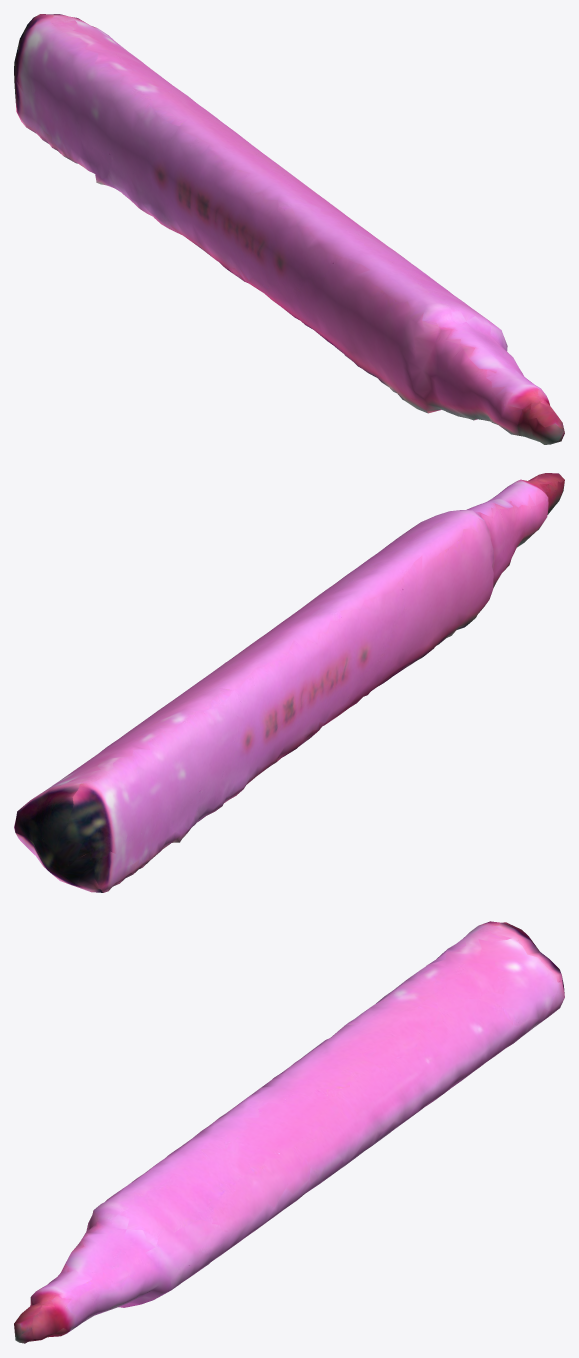
Rendered from scan_align.obj.
The picture shows the model from 3 angles, top to bottom: view 1: azimuth 30°, elevation 25°; view 2: azimuth 150°, elevation 25°; view 3: azimuth 330°, elevation 25°; orthographic projection. The views are drawn at different scales.
Bounding box in the file's own units: 0.0133 × 0.0136 × 0.117.
Materials: 1 (1 with a texture image).
